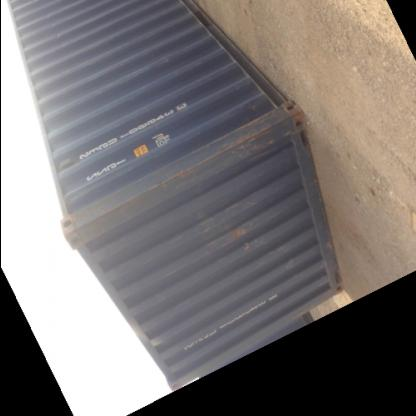Damage: (78, 166, 182, 230), (183, 211, 263, 257), (216, 107, 280, 160), (129, 31, 181, 75)
